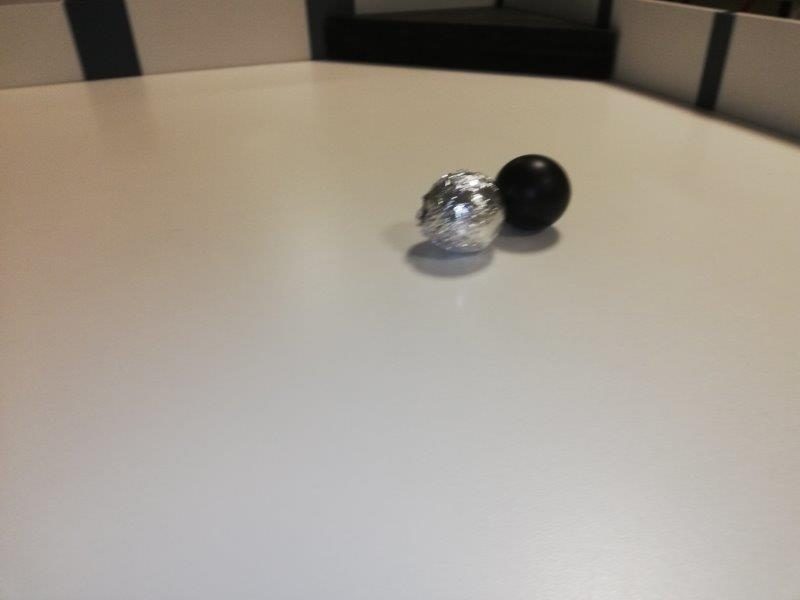bianca: (422, 169, 502, 253)
nera: (496, 153, 569, 232)
